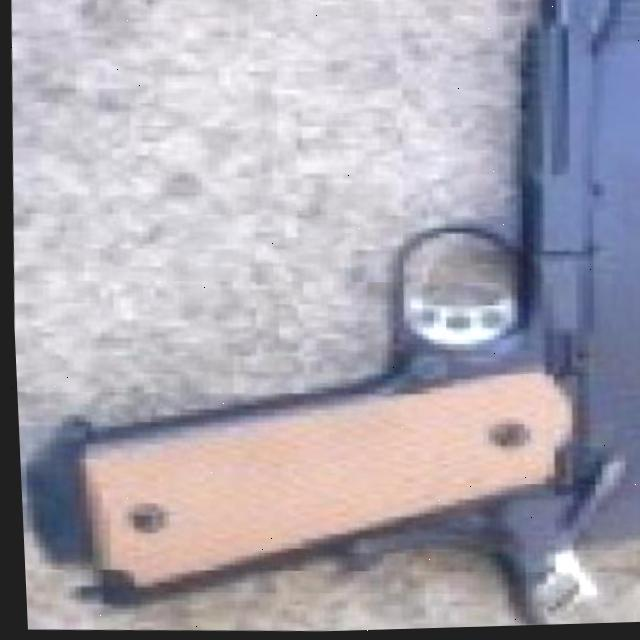gun: (26, 0, 640, 628)
